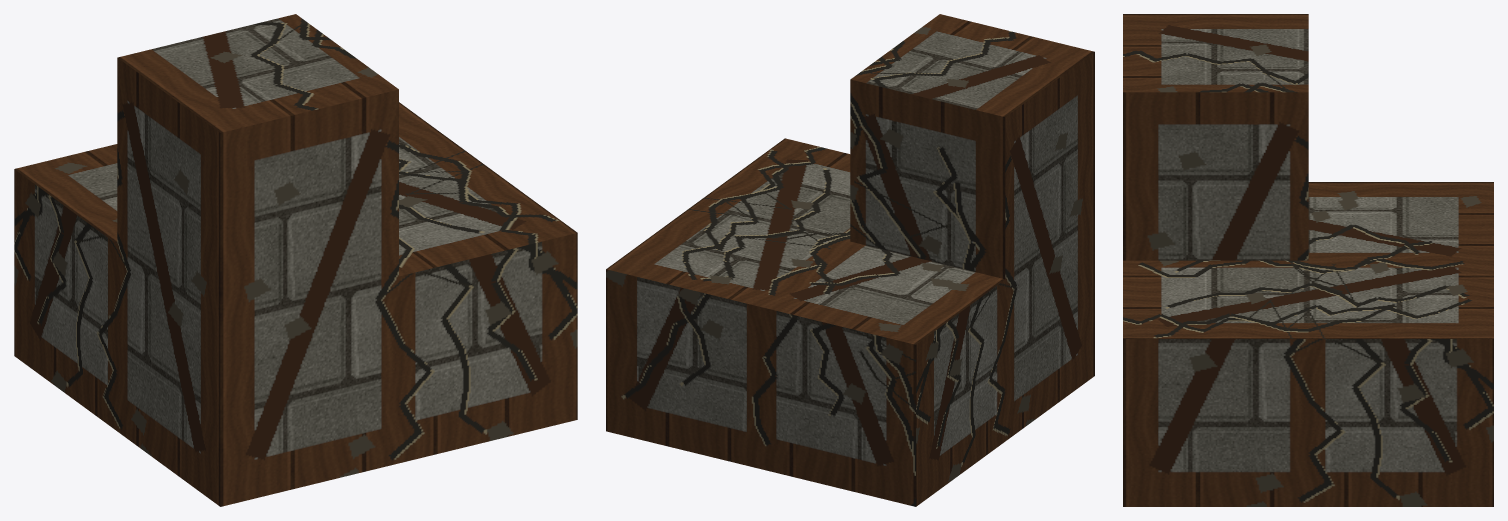
Rendered from wood_z3.glb.
3 renders of one model, left to right at view 1: azimuth 30°, elevation 25°; view 2: azimuth 150°, elevation 25°; view 3: azimuth 270°, elevation 25°, orthographic. The views are drawn at different scales.
Parts seen in each view (by area): view 1: wood_z3; view 2: wood_z3; view 3: wood_z3.
Boxes of the visible parts, x1,y1,x2,y2 form: wood_z3: [14, 14, 577, 506]; wood_z3: [606, 14, 1094, 506]; wood_z3: [1123, 14, 1493, 506].
Bounding box in the file's own units: 1 × 1 × 1.
1 material, 1 textured.
